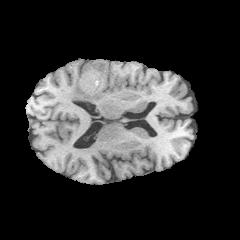glioma: (71, 60, 124, 101)
